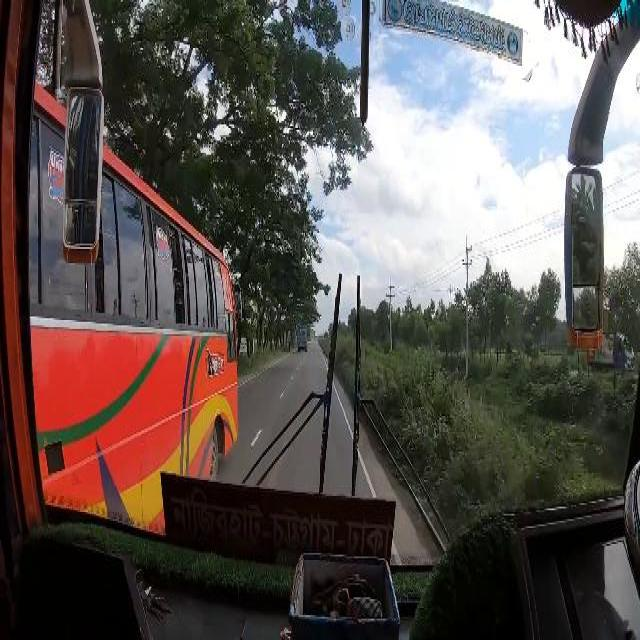bus: (32, 88, 240, 520)
pickup: (296, 323, 306, 349)
